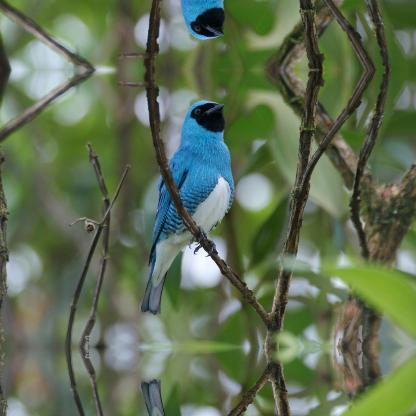Bird: (138, 92, 244, 320), (138, 0, 245, 47)
